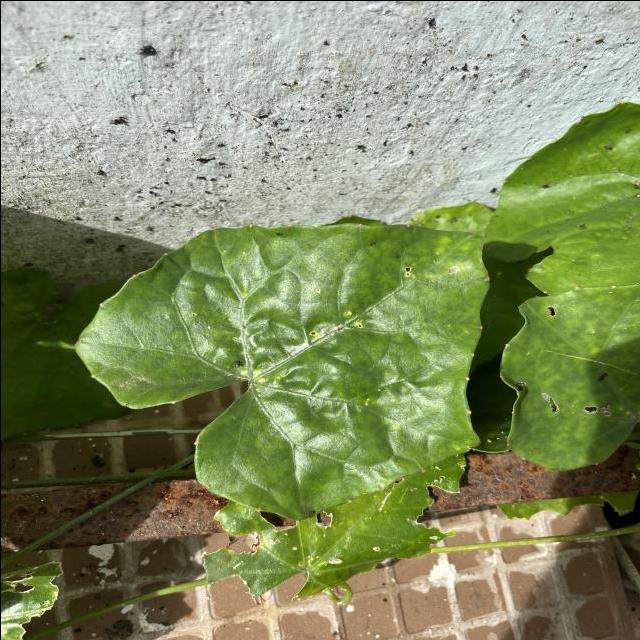Coccinia grandis: (72, 220, 492, 522)
